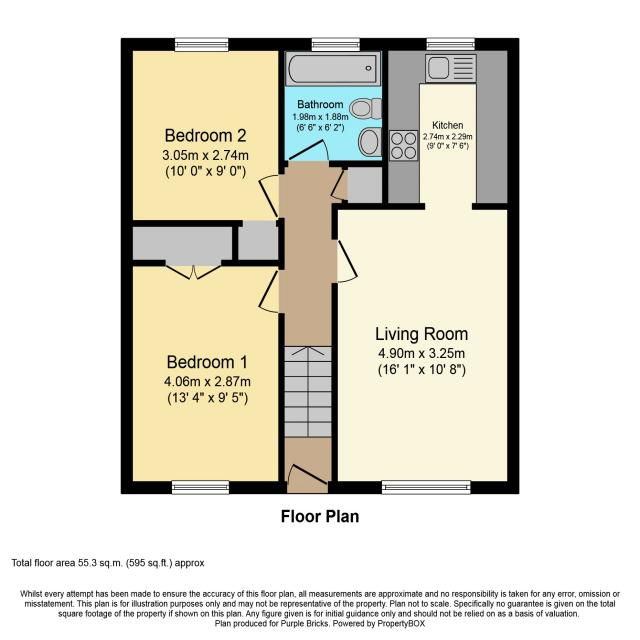DOOR: (255, 171, 286, 221), (285, 461, 330, 494), (255, 267, 285, 315), (331, 236, 360, 285), (286, 136, 331, 167)
DOUBLE DOOR: (164, 259, 223, 282)
ROOM: (331, 38, 520, 495), (120, 259, 285, 495), (120, 37, 285, 228)
WINDOW: (380, 479, 472, 495), (170, 479, 231, 495), (173, 37, 230, 53), (310, 36, 362, 53), (425, 37, 476, 51)
